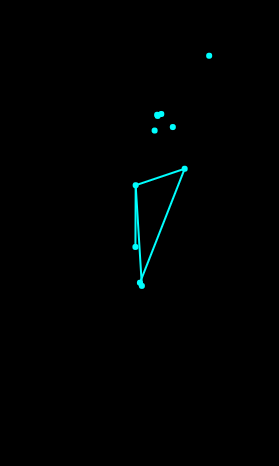warrior_1: (107, 45, 216, 298)
